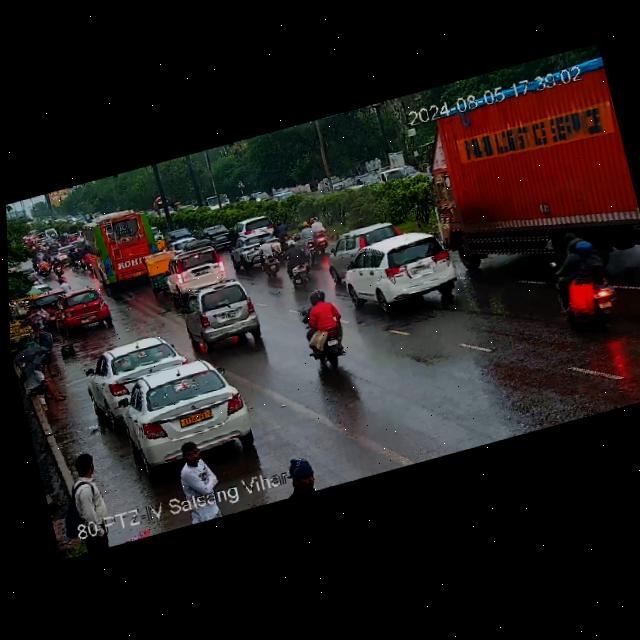bus: (415, 53, 640, 284), (80, 199, 162, 292)
car: (111, 349, 258, 475), (345, 222, 462, 317), (82, 329, 190, 410), (173, 275, 264, 359), (324, 213, 404, 280), (160, 242, 233, 299), (51, 285, 113, 336), (228, 233, 277, 271), (140, 250, 178, 284), (237, 211, 281, 240), (166, 234, 201, 253), (209, 231, 236, 252)
motorcycle: (541, 232, 620, 331), (299, 284, 352, 375), (277, 231, 315, 289), (293, 216, 331, 260), (254, 236, 284, 278), (270, 218, 298, 248), (67, 245, 80, 268), (37, 257, 50, 279), (50, 255, 63, 276), (202, 229, 214, 246)
person: (62, 440, 115, 519), (170, 429, 222, 499), (17, 355, 66, 409), (28, 319, 57, 378), (287, 453, 320, 495), (27, 301, 43, 322), (59, 276, 74, 295)
